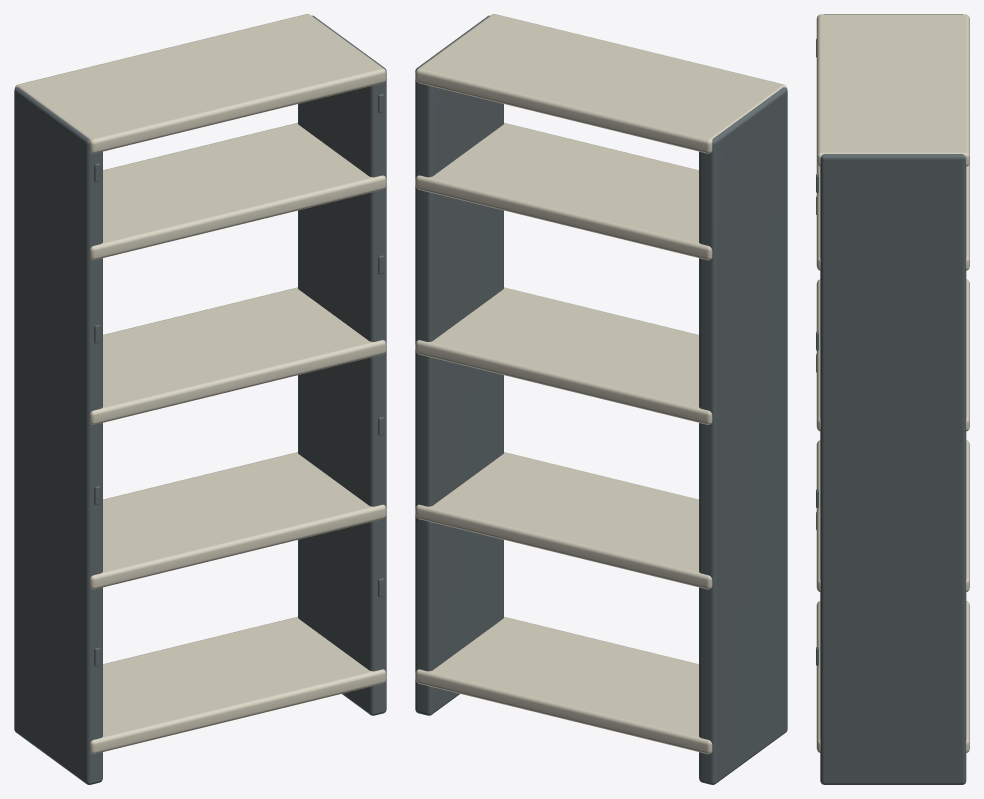
File: StorageShelf.fbx
3 views of the same model, side by side, from view 1: azimuth 30°, elevation 25°; view 2: azimuth 150°, elevation 25°; view 3: azimuth 270°, elevation 25° (orthographic). The views are drawn at different scales.
Visible parts, largest first — view 1: Upright, Upright.001, Shelf.004, Shelf.001, Shelf.002, Shelf.003, Shelf; view 2: Upright, Upright.001, Shelf.004, Shelf.001, Shelf.002, Shelf.003, Shelf; view 3: Upright.001, Shelf.004, Shelf.002, Shelf, Shelf.001, Shelf.003.
Part boxes in pixels (bbox=[...]): Upright: bbox=[14, 87, 102, 784]; Upright.001: bbox=[298, 15, 386, 715]; Shelf.004: bbox=[14, 14, 386, 153]; Shelf.001: bbox=[89, 452, 386, 589]; Shelf.002: bbox=[89, 287, 386, 424]; Shelf.003: bbox=[89, 122, 386, 260]; Shelf: bbox=[89, 616, 386, 754]; Upright: bbox=[699, 87, 787, 784]; Upright.001: bbox=[415, 15, 503, 715]; Shelf.004: bbox=[415, 14, 787, 153]; Shelf.001: bbox=[415, 452, 712, 589]; Shelf.002: bbox=[415, 287, 712, 424]; Shelf.003: bbox=[415, 122, 712, 260]; Shelf: bbox=[415, 616, 712, 754]; Upright.001: bbox=[820, 154, 966, 784]; Shelf.004: bbox=[816, 14, 969, 166]; Shelf.002: bbox=[816, 279, 969, 431]; Shelf: bbox=[816, 601, 969, 752]; Shelf.001: bbox=[816, 440, 969, 591]; Shelf.003: bbox=[816, 163, 969, 270].
Bounding box in the file's own units: 97.5 × 200 × 44.2.
